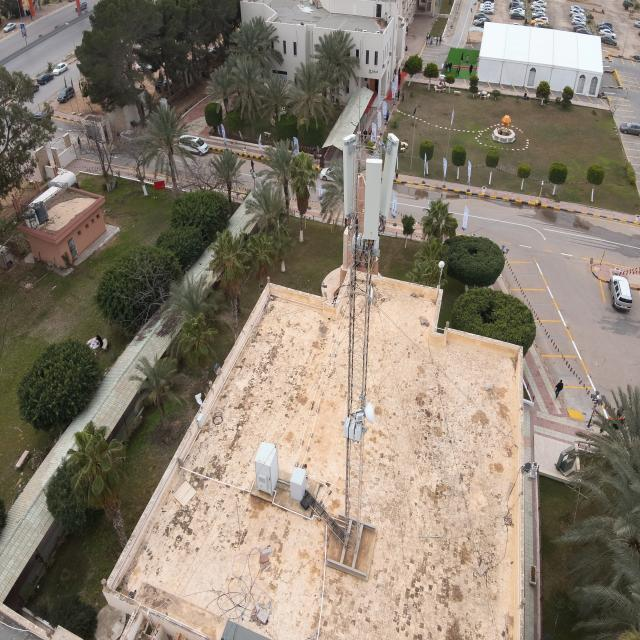antenna: (380, 132, 400, 224), (363, 156, 384, 242), (342, 134, 358, 220)
lighnig-rad: (358, 38, 362, 136)
microware-dish: (354, 401, 379, 424)
power-box: (342, 414, 363, 442)
radio-unit: (351, 231, 383, 252)
